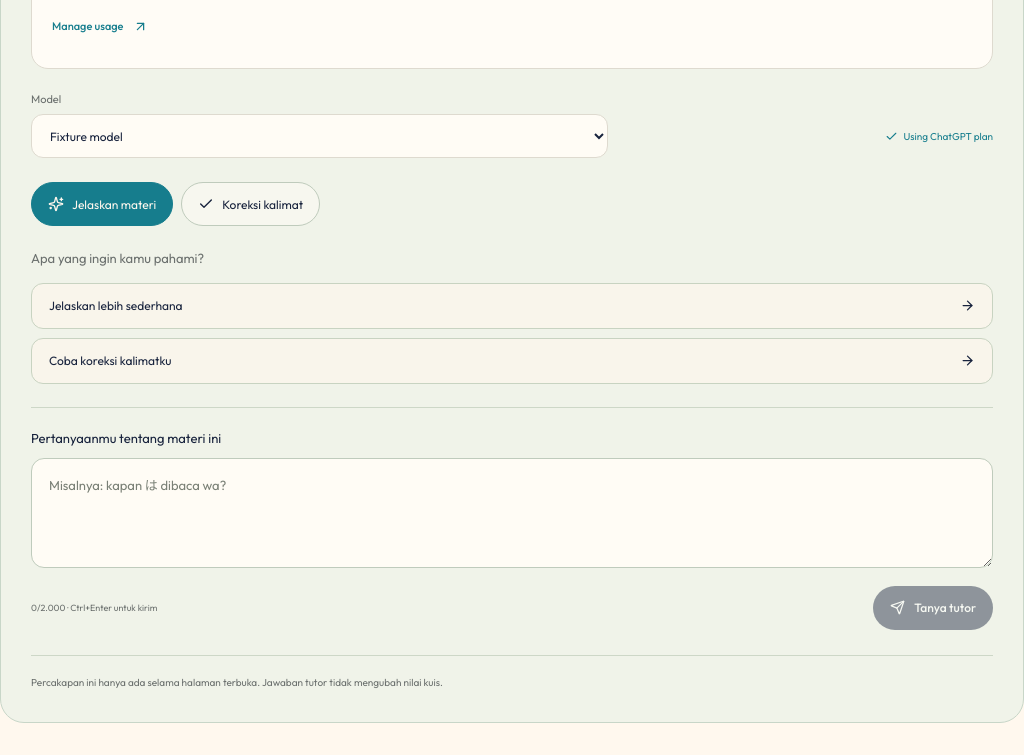
tutor UI › labels partial failed answers and excludes them from the next conversation context
(page scrolled)
Type "Jelaskan は." into the text box at (512,513), box x1=31 y1=458 x2=993 y2=568
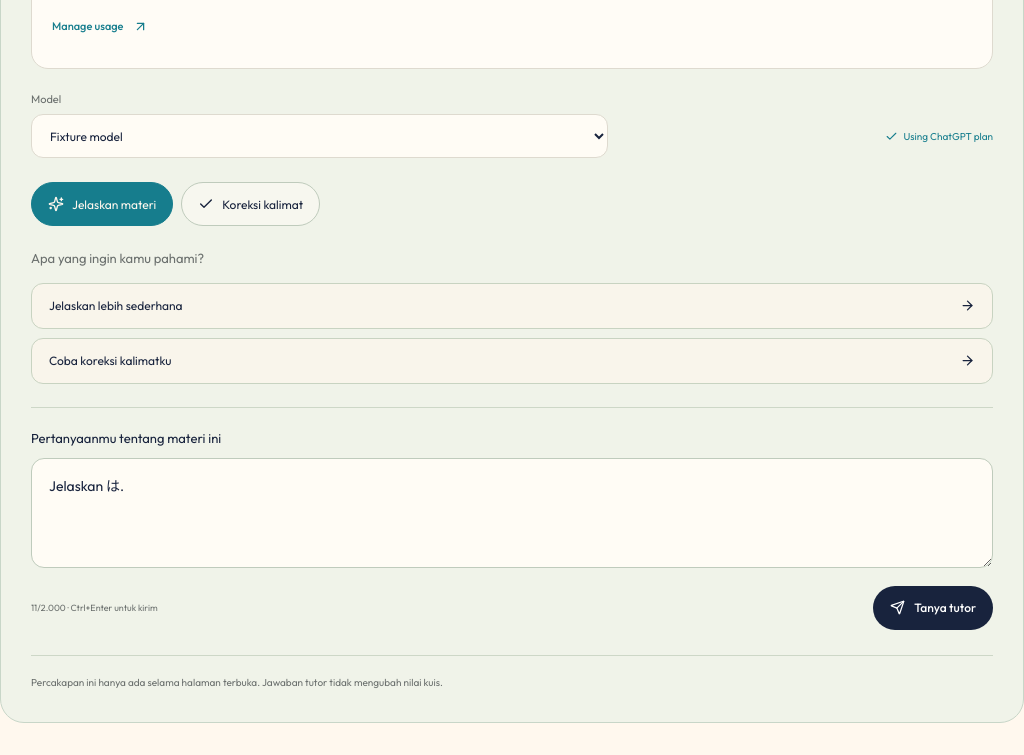
Click the button "Tanya tutor" at (933,608), box x1=873 y1=586 x2=993 y2=630
(page scrolled)
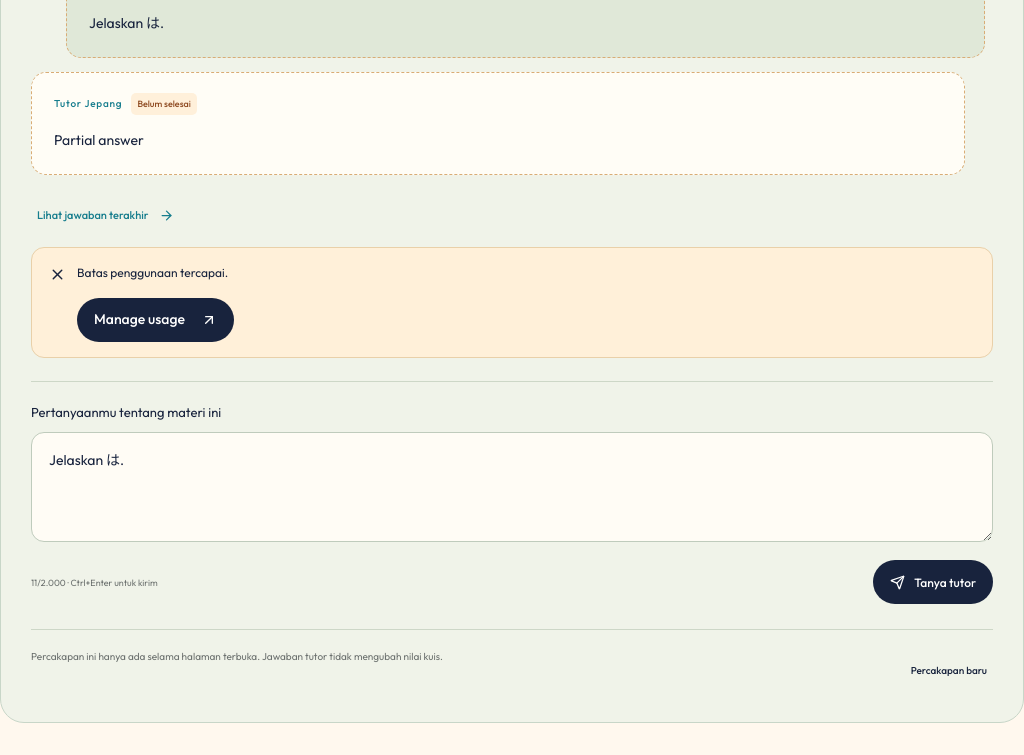
Expected: the message shows "Batas penggunaan", x1=77 y1=265 x2=228 y2=280
Expected: the text "Belum selesai" is shown 2 times
Click the button "Tanya tutor" at (933,582), box x1=873 y1=560 x2=993 y2=604
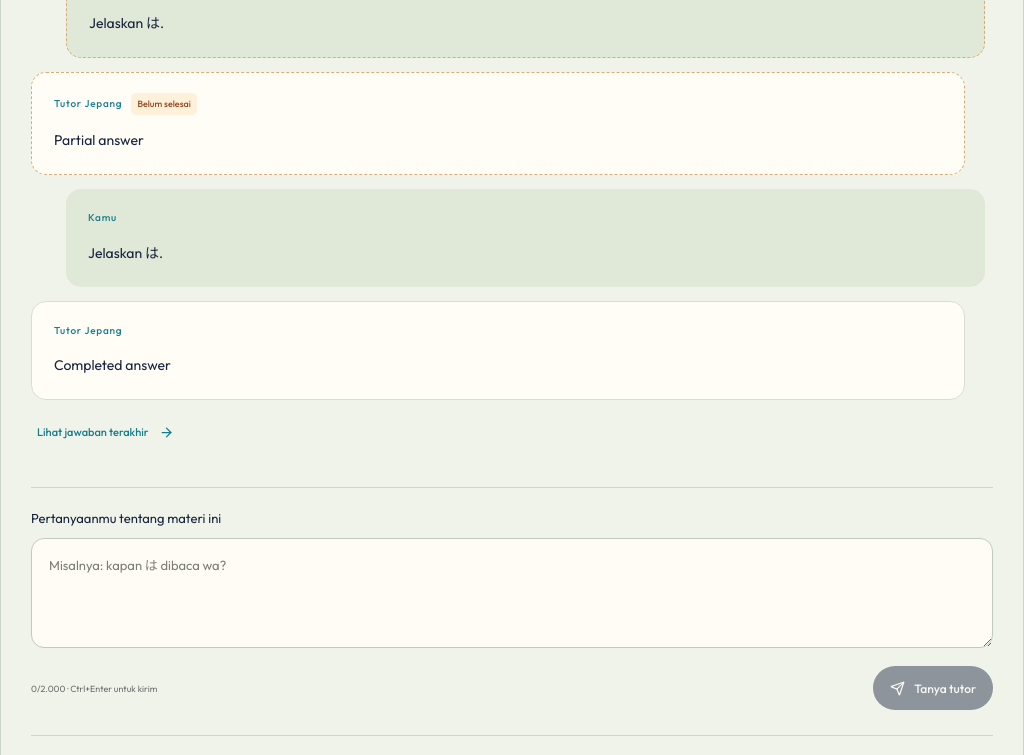
Expected: the text "Completed answer" is shown, x1=54 y1=356 x2=171 y2=374
